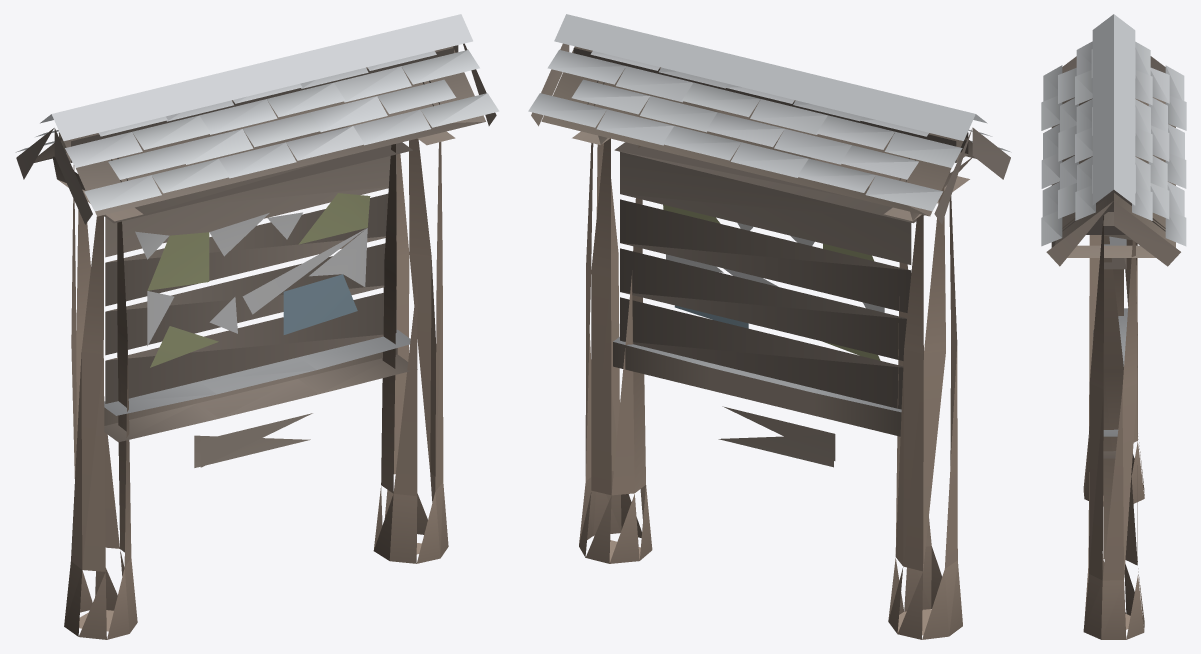
The model's file is trailsign.lod.glb.
3 views of the same model, side by side, from view 1: azimuth 30°, elevation 25°; view 2: azimuth 150°, elevation 25°; view 3: azimuth 270°, elevation 25° (orthographic). The views are drawn at different scales.
Parts seen in each view (by area): view 1: trailsign; view 2: trailsign; view 3: trailsign.
Boxes of the visible parts, bbox=[...] form: trailsign: bbox=[15, 14, 499, 639]; trailsign: bbox=[528, 14, 1011, 639]; trailsign: bbox=[1041, 14, 1186, 639].
Size of the model in its own units: 2.56 by 3.12 by 0.8966.
